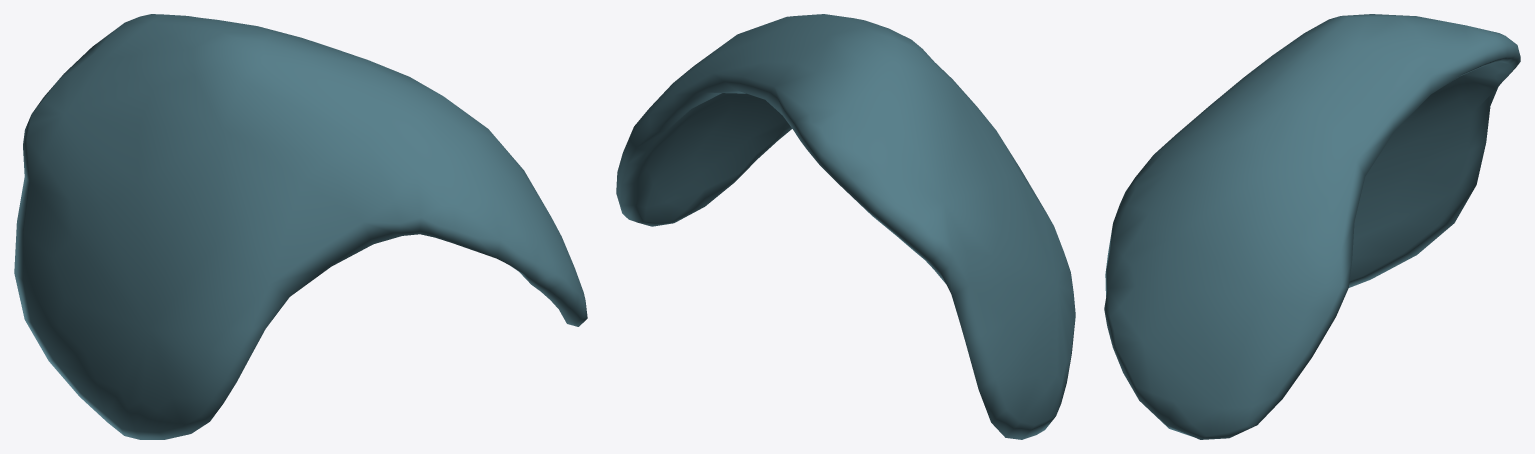
File: Flexor_carpi_ulnaris-Insertion.l_Generated_Mesh_From_X3D.611.glb
The picture shows the model from 3 angles, left to right: view 1: azimuth 30°, elevation 25°; view 2: azimuth 150°, elevation 25°; view 3: azimuth 270°, elevation 25°; orthographic projection. The views are drawn at different scales.
Parts seen in each view (by area): view 1: Flexor_carpi_ulnaris-Insertion.l_Generated_Mesh_From_X3D.611; view 2: Flexor_carpi_ulnaris-Insertion.l_Generated_Mesh_From_X3D.611; view 3: Flexor_carpi_ulnaris-Insertion.l_Generated_Mesh_From_X3D.611.
Boxes of the visible parts, bbox=[...] form: Flexor_carpi_ulnaris-Insertion.l_Generated_Mesh_From_X3D.611: bbox=[14, 14, 587, 439]; Flexor_carpi_ulnaris-Insertion.l_Generated_Mesh_From_X3D.611: bbox=[616, 14, 1075, 439]; Flexor_carpi_ulnaris-Insertion.l_Generated_Mesh_From_X3D.611: bbox=[1104, 14, 1520, 439].
Size of the model in its own units: 0.00904 by 0.00674 by 0.00726.
